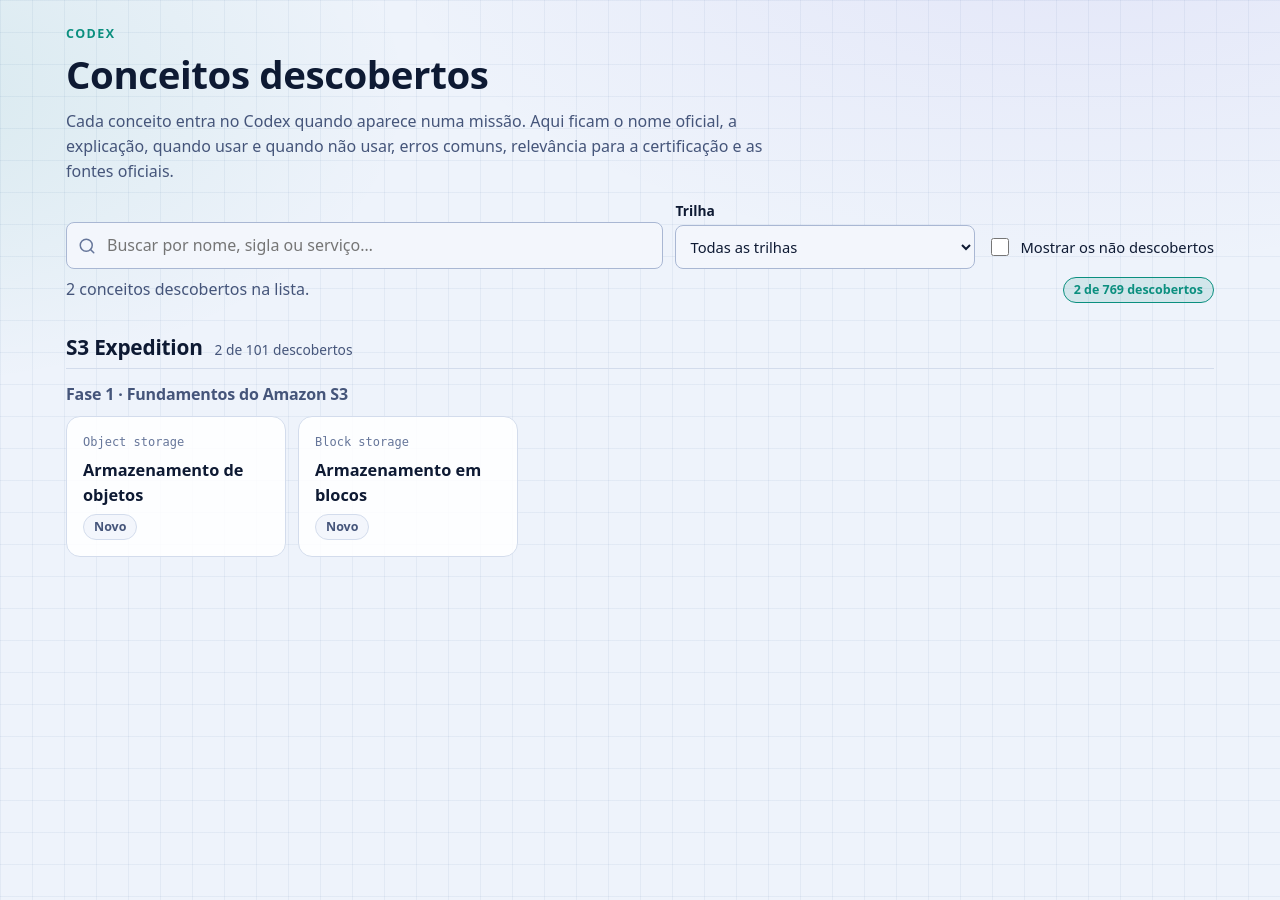
Scenario: Codex › busca sem resultado explica o motivo e Limpar busca restaura a lista
This screenshot has width=1280, height=900.
Type "zzz" into the search field named "Buscar conceito". click: {"x": 365, "y": 246}
box: [66,222,664,269]
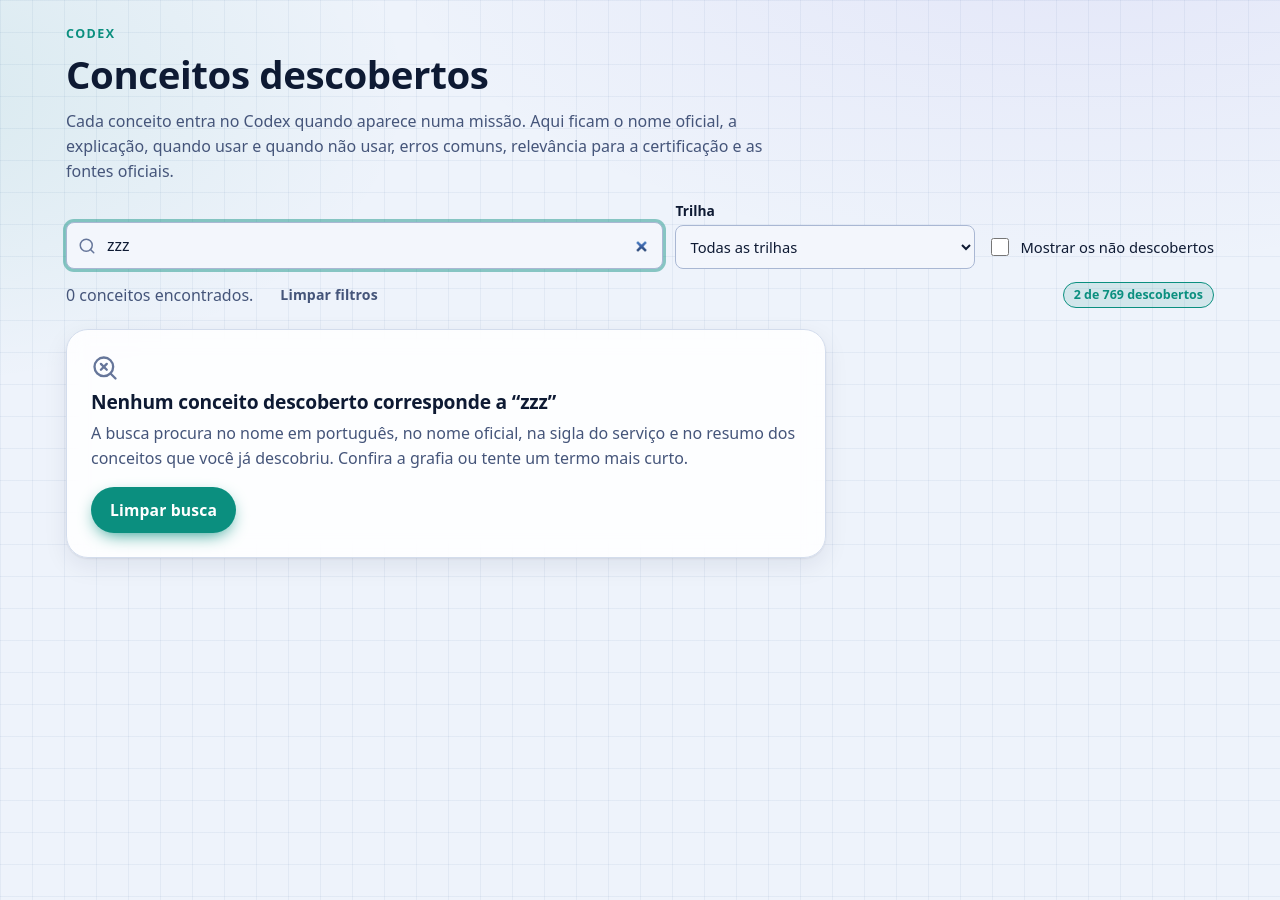
Expected: the heading "Nenhum conceito descoberto corresponde a “zzz”" is shown, [91,390,556,413]
Click the button "Limpar busca". click: {"x": 164, "y": 510}
box: [91,487,236,533]
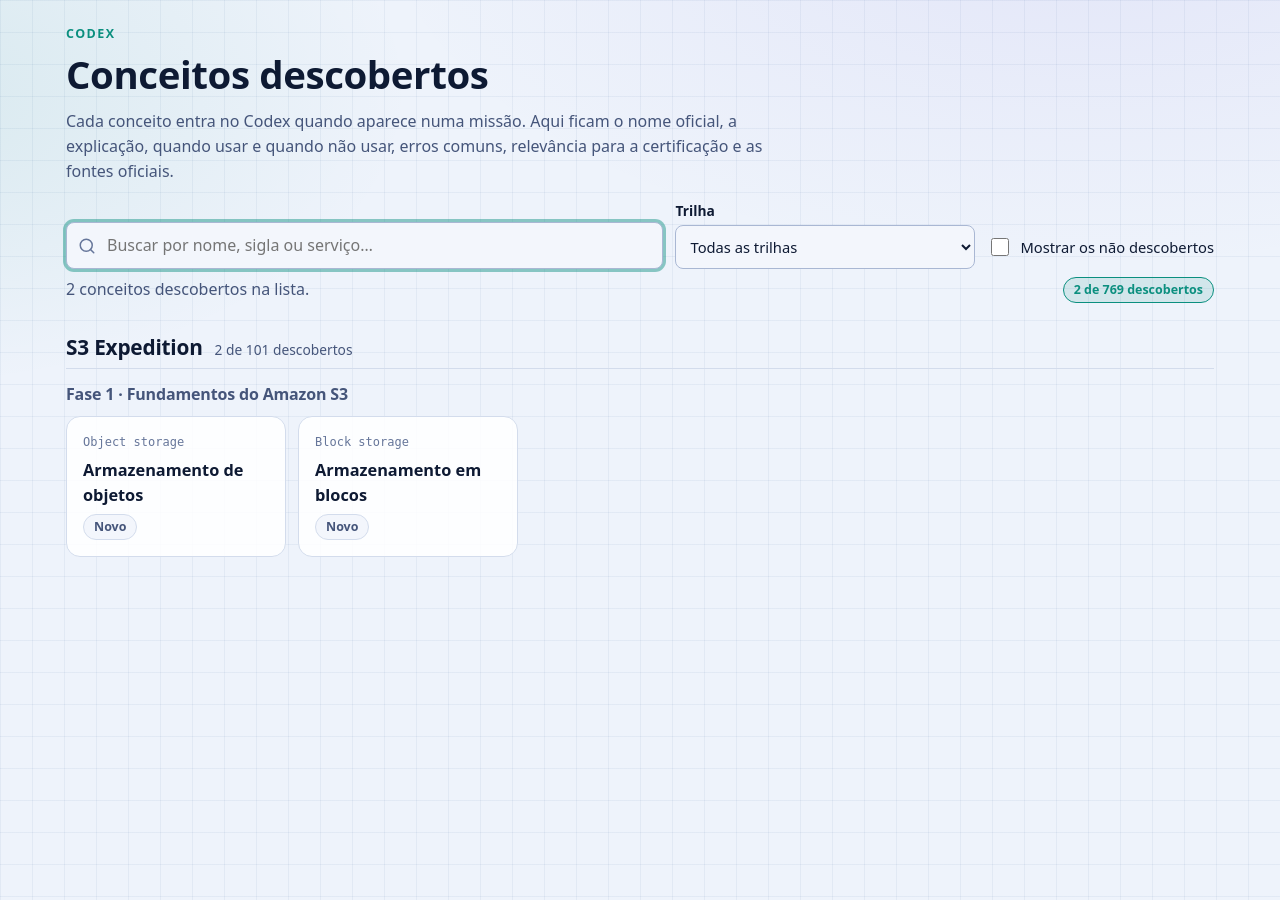
Expected: the search field named "Buscar conceito" is empty, [66,222,664,269]
